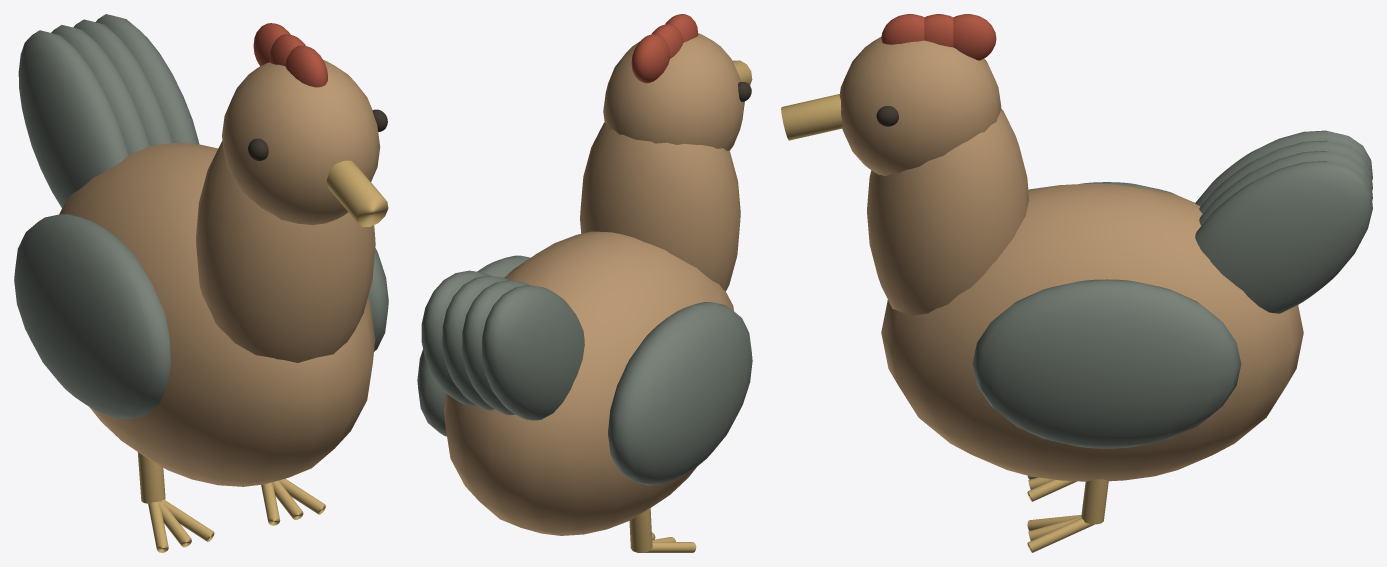
The model's file is chicken.glb.
The picture shows the model from 3 angles, left to right: view 1: azimuth 30°, elevation 25°; view 2: azimuth 150°, elevation 25°; view 3: azimuth 270°, elevation 25°; orthographic projection. The views are drawn at different scales.
Parts seen in each view (by area): view 1: Hen body, Hen neck, Folded wing, Hen head, Tail feather, Tail feather.003, Tail feather.001, Tail feather.002, Beak, Small comb, Folded wing.001, Thin leg (+8 smaller); view 2: Hen body, Folded wing, Hen neck, Hen head, Tail feather, Tail feather.003, Tail feather.001, Tail feather.002, Folded wing.001, Small comb.002, Thin leg, Small comb.001 (+2 smaller); view 3: Hen body, Folded wing.001, Hen neck, Tail feather.003, Hen head, Beak, Tail feather, Tail feather.002, Tail feather.001, Small comb.002, Small comb, Thin leg.001 (+2 smaller).
Part boxes in pixels (x1=…): Hen body: x1=59, y1=143, x2=375, y2=486; Hen neck: x1=196, y1=141, x2=375, y2=362; Folded wing: x1=14, y1=214, x2=170, y2=419; Hen head: x1=222, y1=60, x2=380, y2=224; Tail feather: x1=18, y1=30, x2=128, y2=208; Tail feather.003: x1=95, y1=14, x2=199, y2=144; Tail feather.001: x1=51, y1=25, x2=149, y2=154; Tail feather.002: x1=73, y1=19, x2=172, y2=146; Beak: x1=326, y1=160, x2=388, y2=226; Small comb: x1=285, y1=45, x2=327, y2=87; Folded wing.001: x1=368, y1=248, x2=388, y2=351; Thin leg: x1=137, y1=452, x2=165, y2=503; Hen body: x1=443, y1=231, x2=733, y2=535; Folded wing: x1=608, y1=302, x2=752, y2=485; Hen neck: x1=580, y1=122, x2=740, y2=291; Hen head: x1=603, y1=33, x2=744, y2=150; Tail feather: x1=482, y1=285, x2=584, y2=420; Tail feather.003: x1=421, y1=270, x2=489, y2=405; Tail feather.001: x1=462, y1=280, x2=529, y2=415; Tail feather.002: x1=442, y1=275, x2=509, y2=410; Folded wing.001: x1=417, y1=255, x2=530, y2=436; Small comb.002: x1=631, y1=34, x2=670, y2=83; Thin leg: x1=629, y1=508, x2=652, y2=552; Small comb.001: x1=651, y1=24, x2=683, y2=58; Hen body: x1=881, y1=183, x2=1303, y2=481; Folded wing.001: x1=972, y1=279, x2=1241, y2=448; Hen neck: x1=867, y1=108, x2=1029, y2=315; Tail feather.003: x1=1195, y1=161, x2=1372, y2=313; Hen head: x1=839, y1=36, x2=1001, y2=176; Beak: x1=781, y1=94, x2=842, y2=140; Tail feather: x1=1195, y1=130, x2=1372, y2=206; Tail feather.002: x1=1199, y1=151, x2=1372, y2=225; Tail feather.001: x1=1199, y1=140, x2=1372, y2=213; Small comb.002: x1=953, y1=14, x2=996, y2=60; Small comb: x1=881, y1=14, x2=924, y2=44; Thin leg.001: x1=1081, y1=479, x2=1108, y2=524.
Bounding box in the file's own units: 0.33 × 0.5758 × 0.6164.
